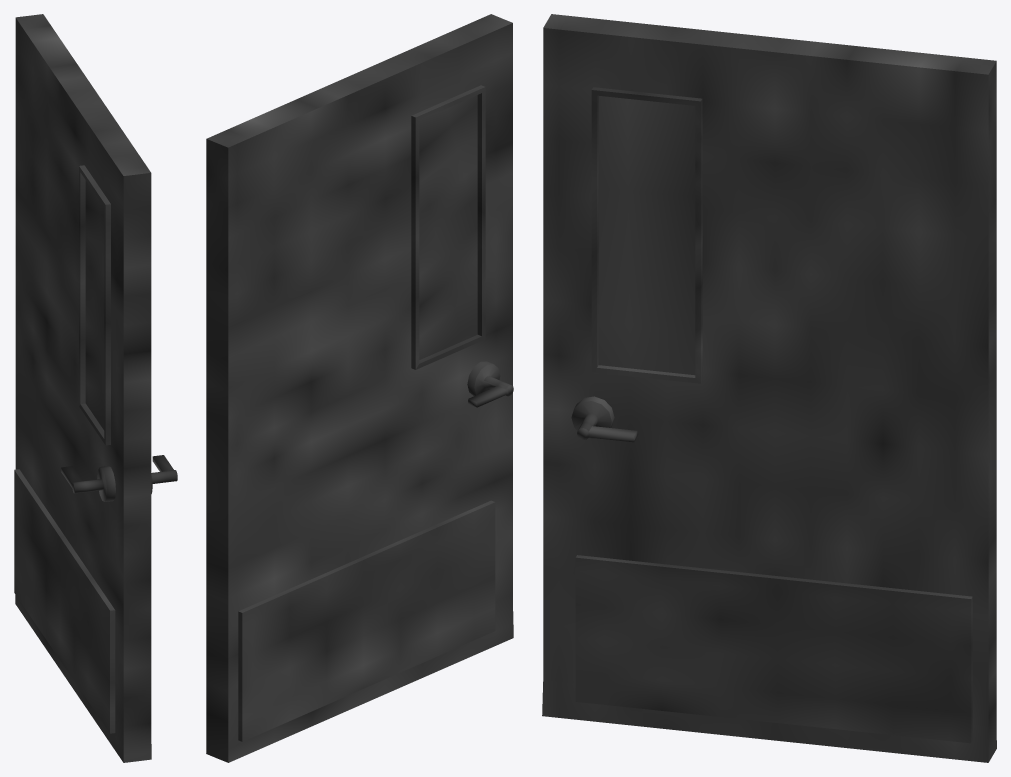
The model's file is door.fbx.
3 views of the same model, side by side, from view 1: azimuth 30°, elevation 25°; view 2: azimuth 150°, elevation 25°; view 3: azimuth 270°, elevation 25° (orthographic). The views are drawn at different scales.
Visible parts, largest first — view 1: door; view 2: door; view 3: door.
Boxes of the visible parts, box(x1,y1,x2,y2) form: door: box(14, 14, 177, 762); door: box(206, 14, 513, 762); door: box(542, 14, 996, 762).
Bounding box in the file's own units: 0.3839 × 1.63 × 0.9756.
1 material, 1 textured.
